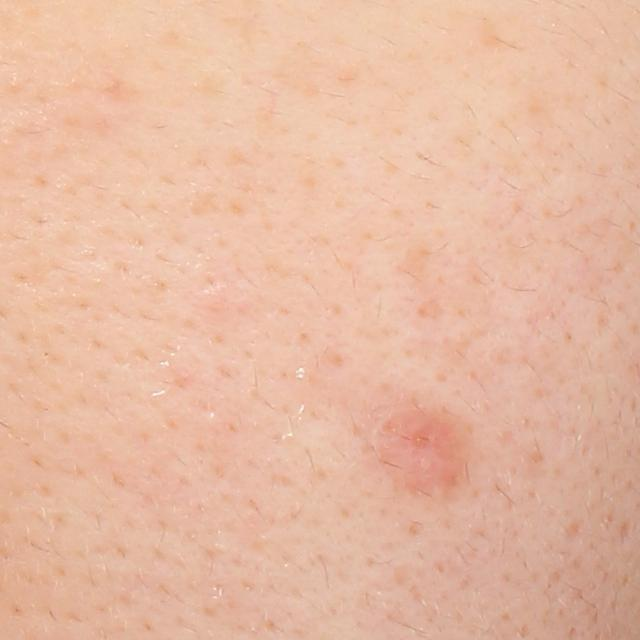papule: (374, 406, 482, 489)
